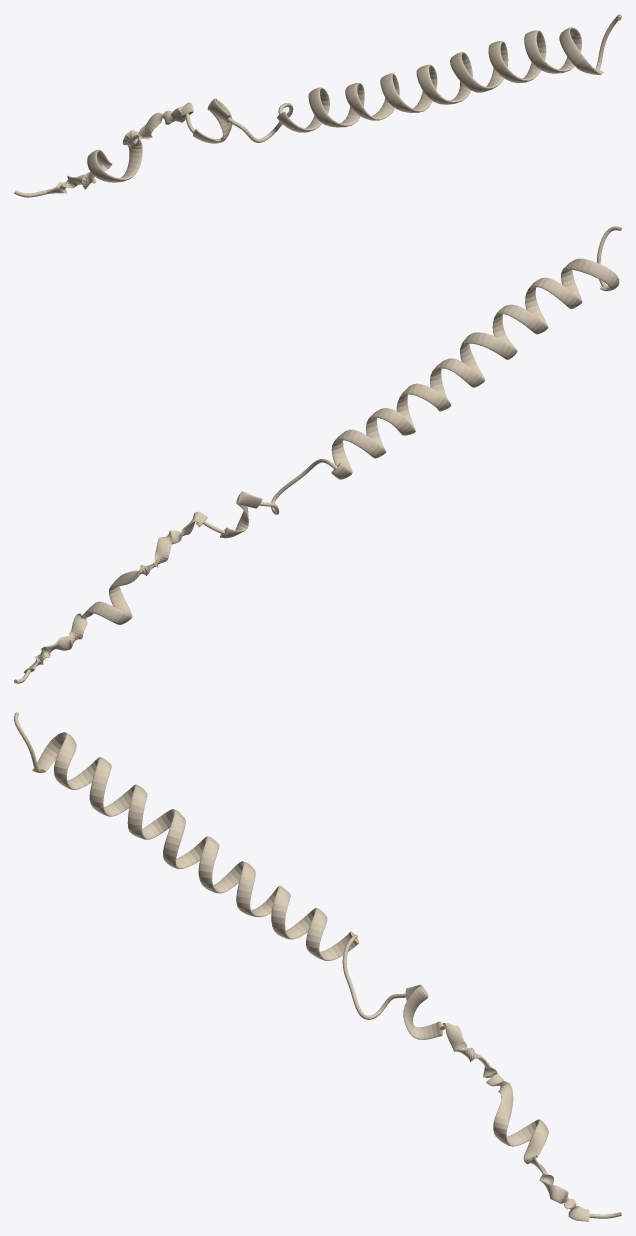
File: HelixHelix.dae
The picture shows the model from 3 angles, top to bottom: view 1: azimuth 90°, elevation 25°; view 2: azimuth 150°, elevation 25°; view 3: azimuth 270°, elevation 25°; orthographic projection. The views are drawn at different scales.
Parts seen in each view (by area): view 1: Shape_IndexedTriangleStripSet_064; view 2: Shape_IndexedTriangleStripSet_064; view 3: Shape_IndexedTriangleStripSet_064.
Boxes of the visible parts, x1,y1,x2,y2 form: Shape_IndexedTriangleStripSet_064: (14, 14, 621, 197); Shape_IndexedTriangleStripSet_064: (14, 226, 621, 683); Shape_IndexedTriangleStripSet_064: (14, 712, 621, 1221).
Bounding box in the file's own units: 50.03 × 73.97 × 46.08.
